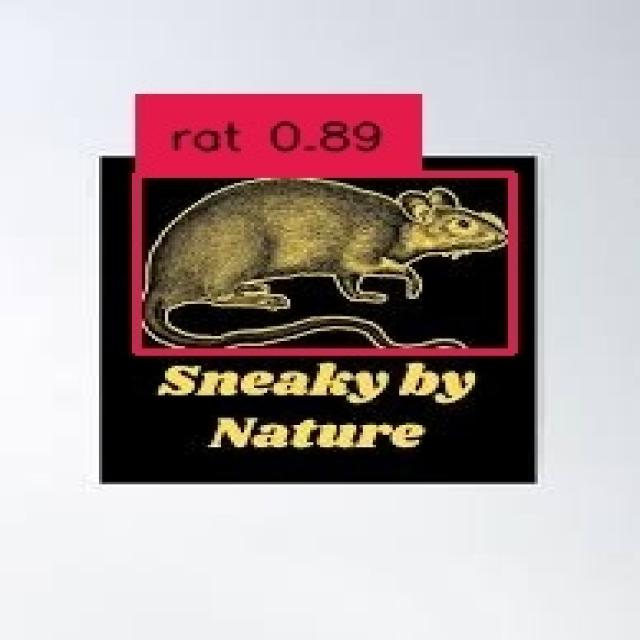rat: (132, 170, 508, 348)
